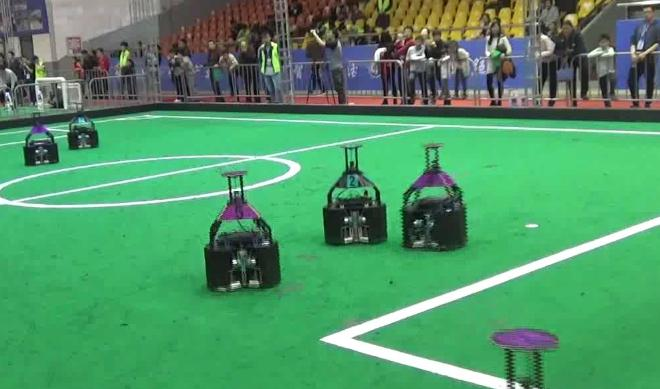robot: (196, 170, 286, 294), (395, 141, 472, 252), (320, 142, 391, 249)
